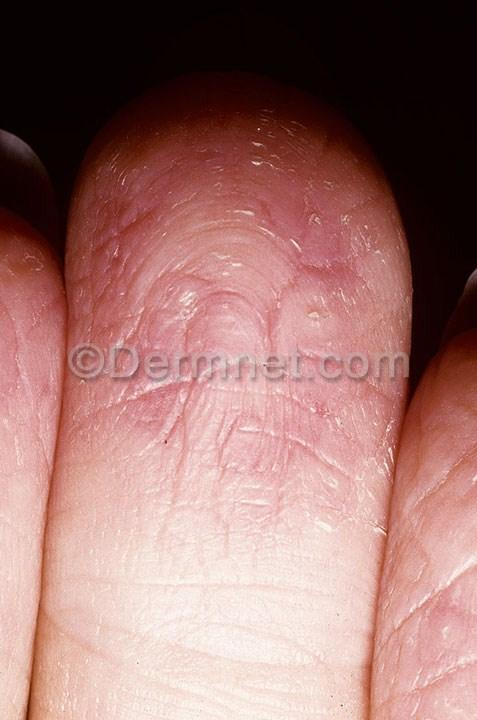Eczema: (243, 102, 317, 210), (158, 316, 280, 378), (203, 388, 324, 450), (175, 228, 274, 302), (162, 101, 233, 203), (325, 193, 400, 289), (89, 154, 169, 225), (79, 242, 145, 325), (335, 381, 409, 453), (295, 299, 363, 376), (389, 562, 453, 642), (12, 294, 65, 386), (85, 354, 157, 411), (404, 471, 454, 553), (4, 399, 44, 476), (5, 229, 52, 290), (418, 420, 476, 469), (438, 361, 477, 421)
